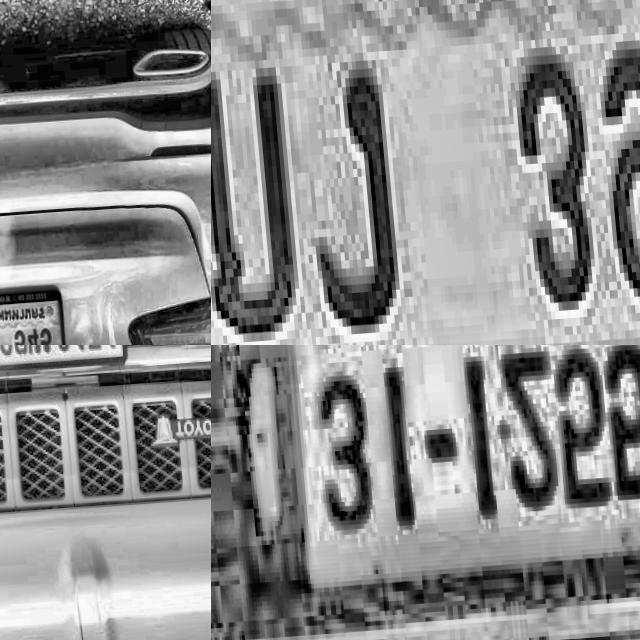license-plate: (211, 0, 640, 345), (275, 345, 640, 591), (0, 345, 126, 386), (0, 293, 61, 345)
